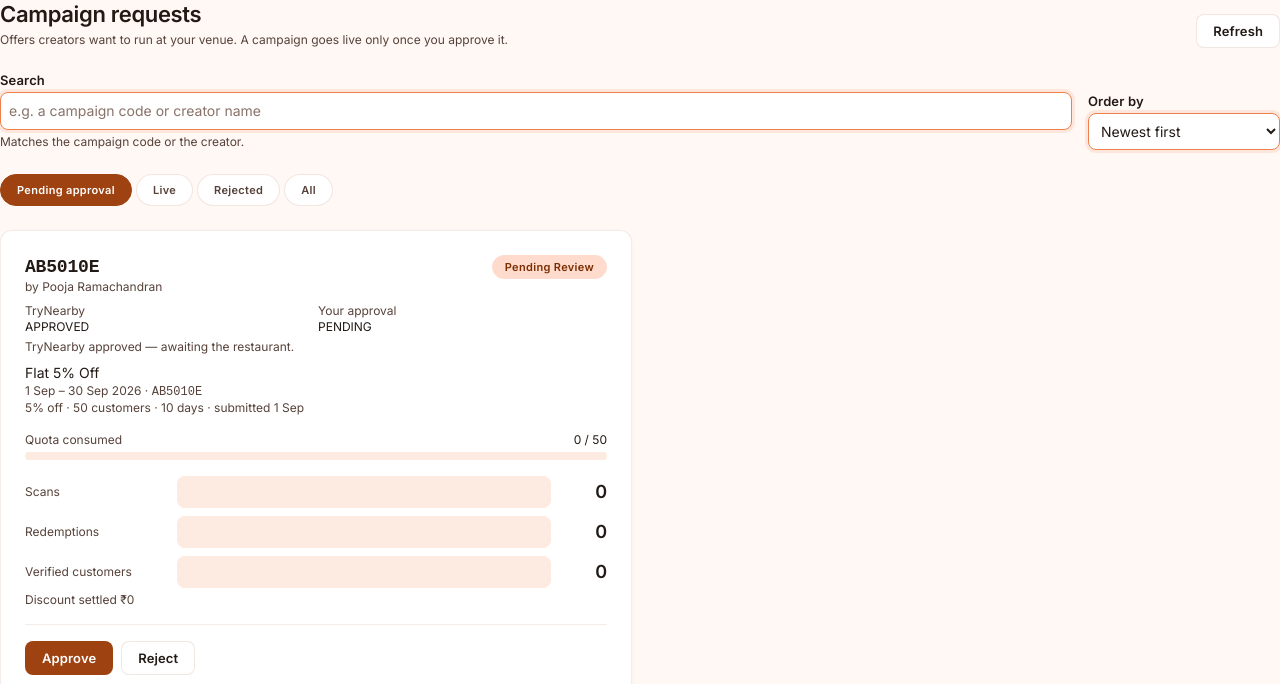
Test: RestaurantCampaigns › approves through a confirmation and reports the outcome
Click the button "Approve".
click(69, 658)  # box [25,641,113,675]
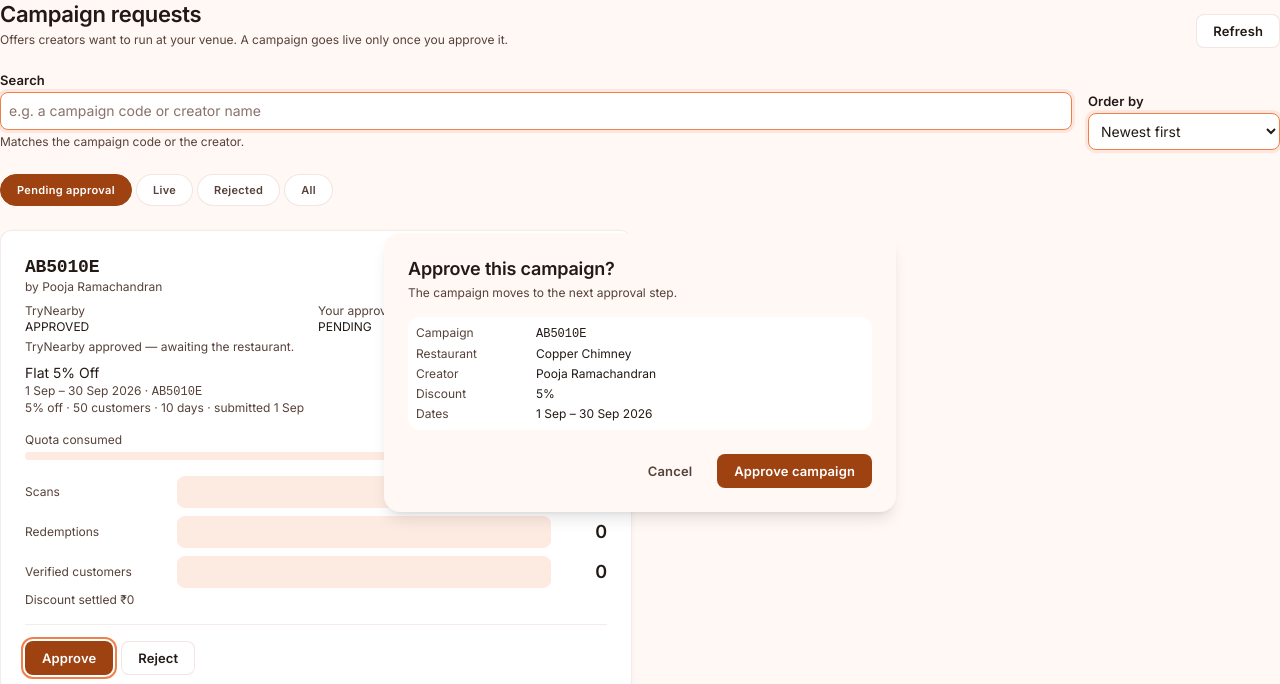
Click the button "Approve campaign".
click(795, 470)  # box [717,454,872,488]
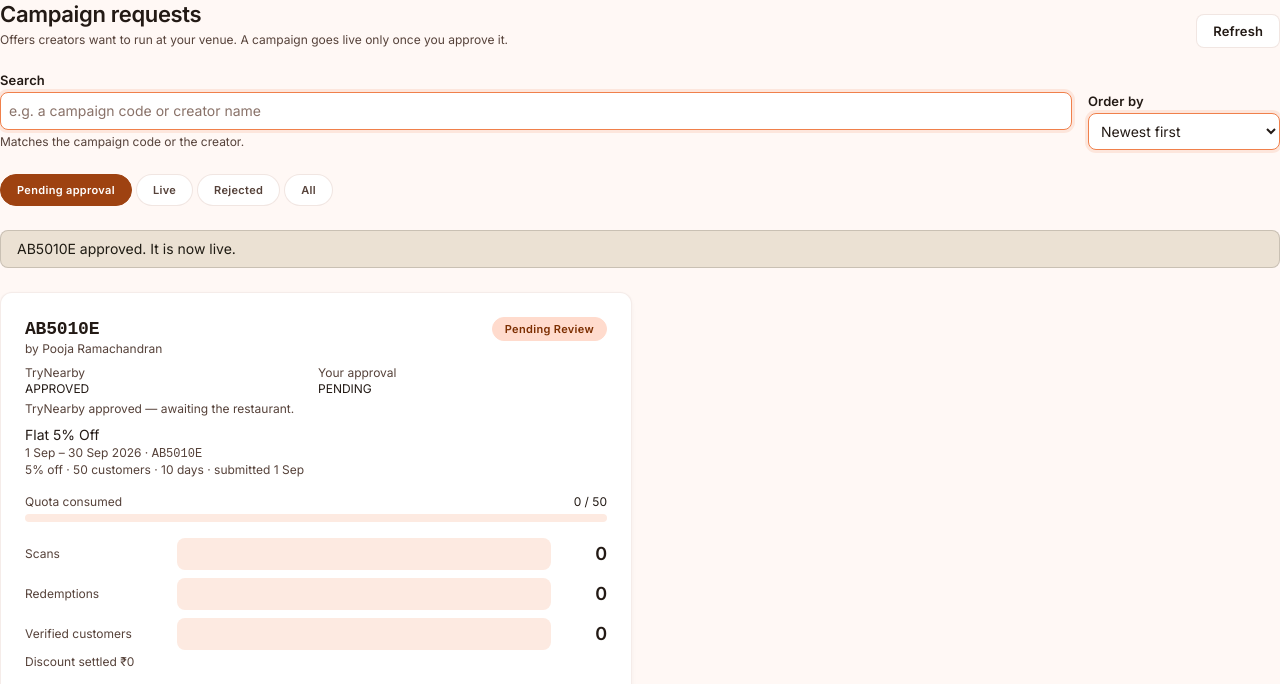
expect the text "AB5010E approved. It is now live." is shown: met, box [0,230,1279,268]
